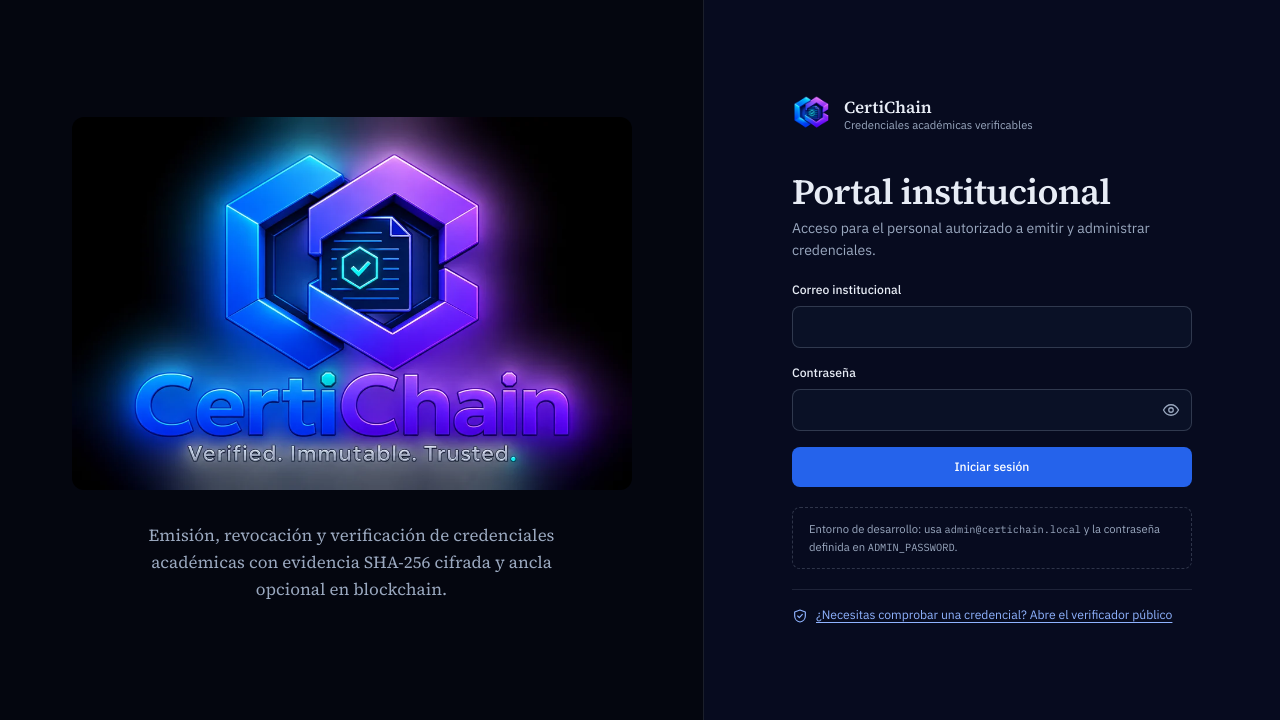
Test: login and session › shows a generic error for invalid credentials and clears the password
The image size is (1280, 720).
Type "admin@certichain.local" into the field labelled "Correo institucional" at (992, 327), box 792,306 -> 1192,348
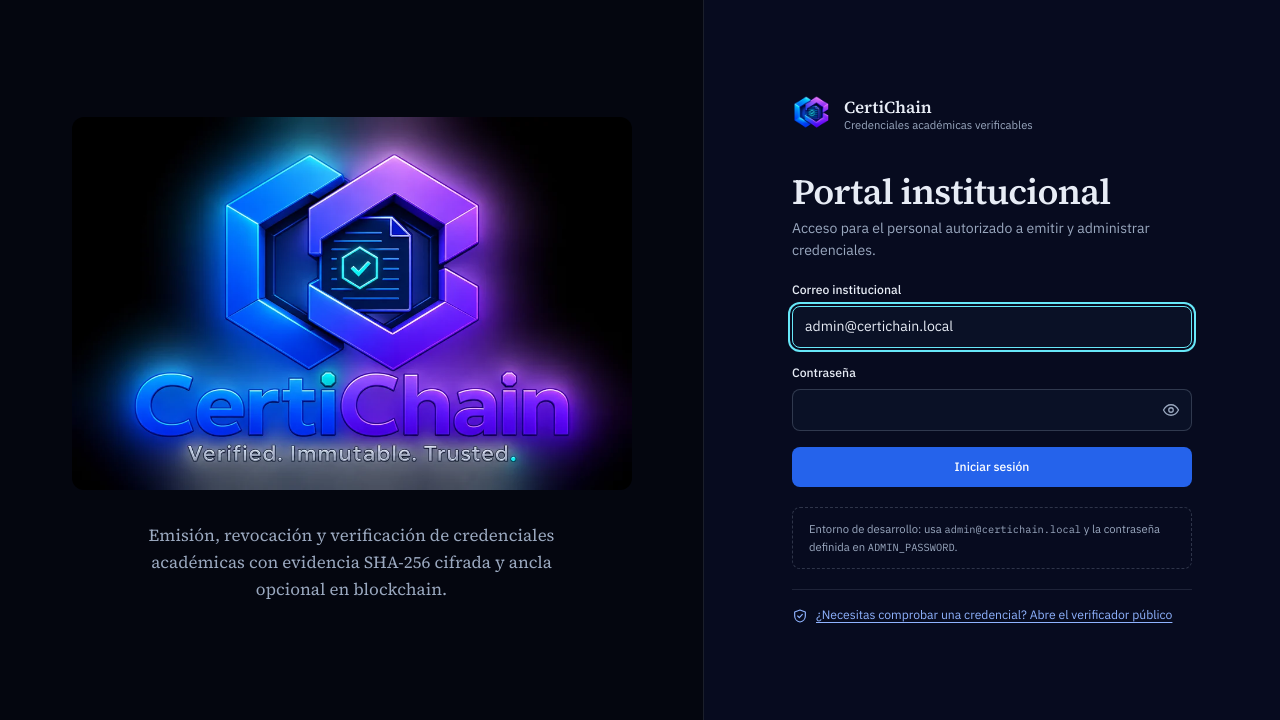
Type "wrong-password" into the password field labelled "Contraseña" at (992, 410), box 792,389 -> 1192,431
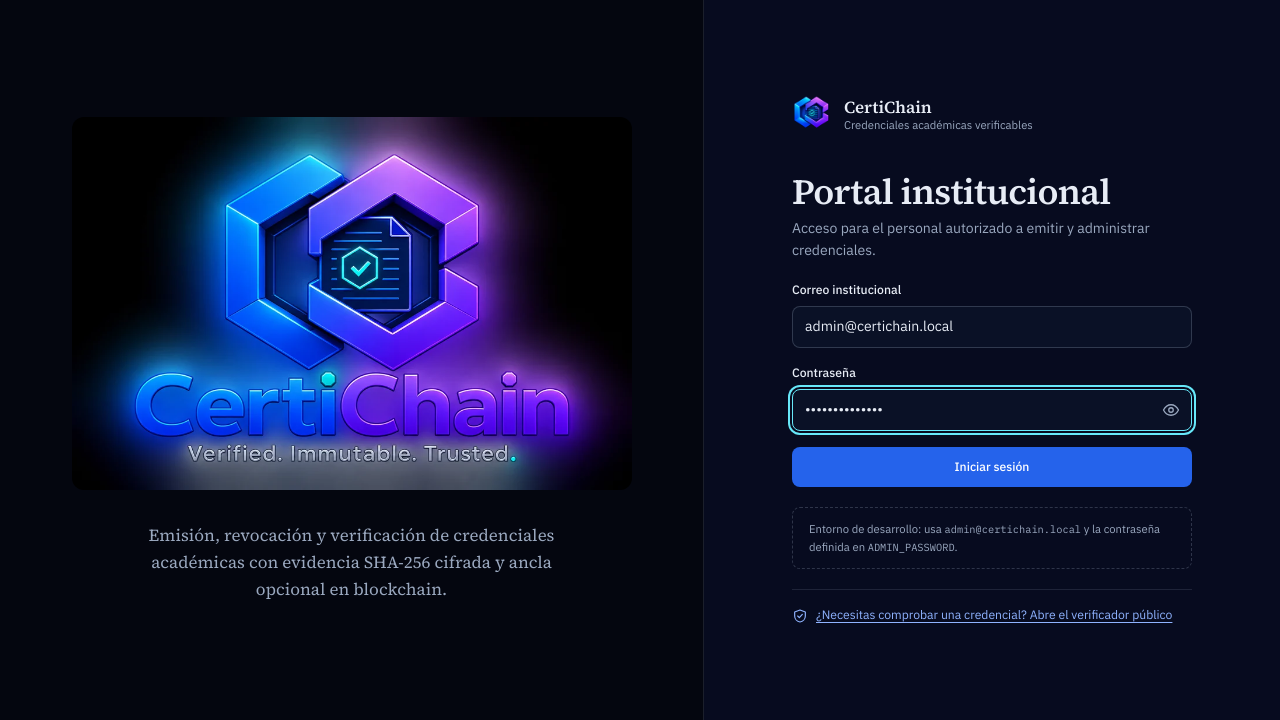
Click the button "Iniciar sesión" at (992, 467), box 792,447 -> 1192,487
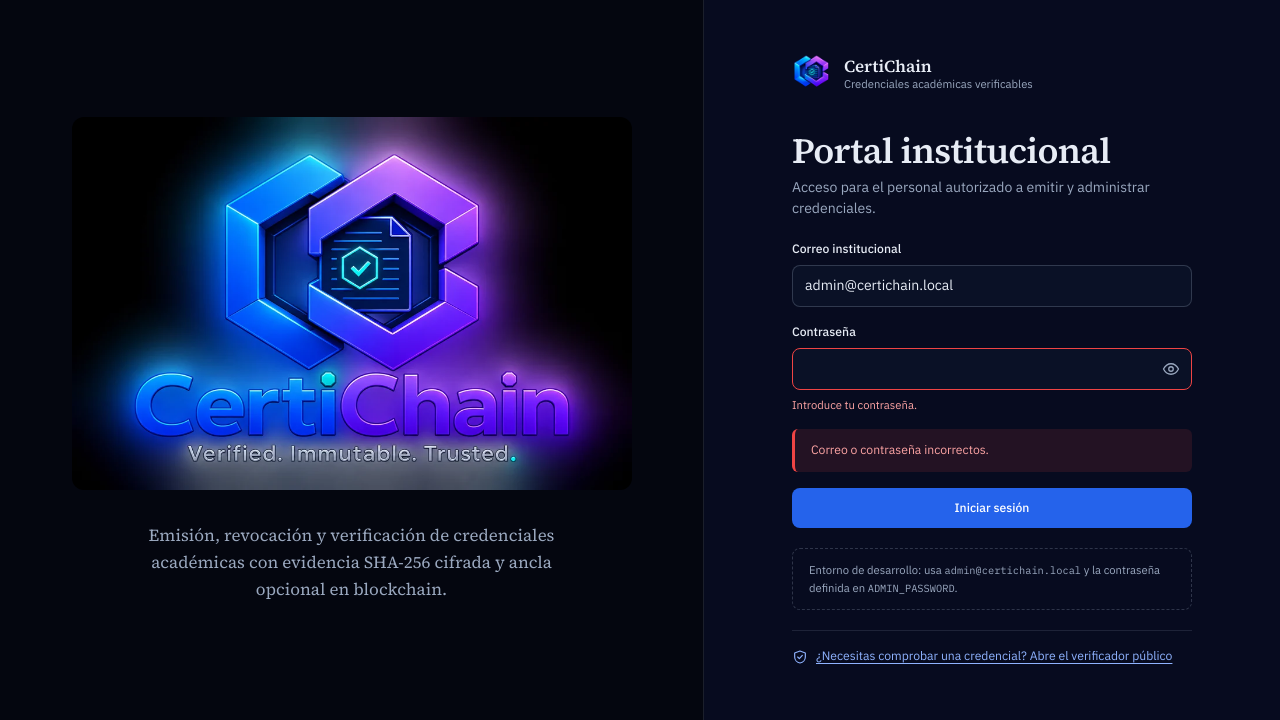
Expected: the message reads "Correo o contraseña incorrectos.", 811,442 -> 989,457
Expected: the password field labelled "Contraseña" is empty, 792,348 -> 1192,390
